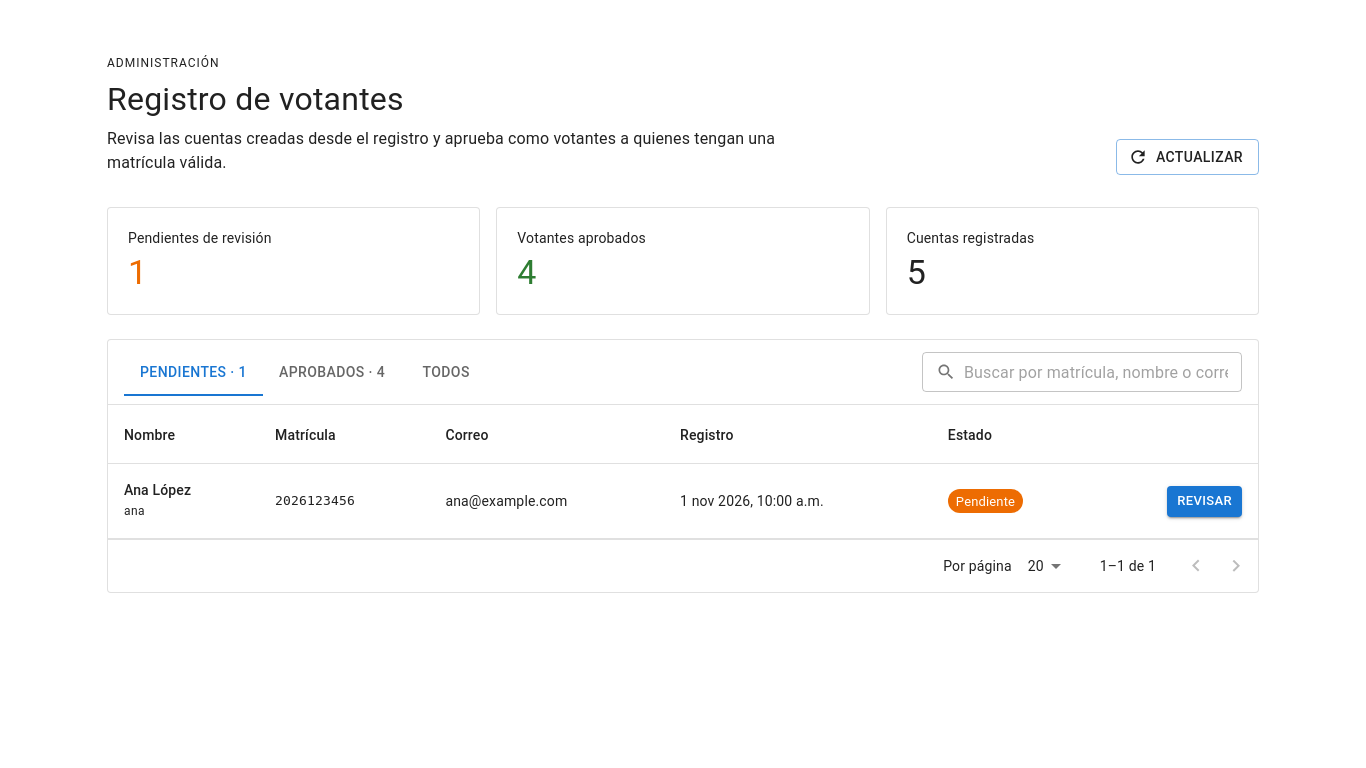
Test: AdminVotersPage › lista las solicitudes pendientes con sus indicadores y permite revisarlas
This screenshot has width=1366, height=768.
Check: the text "2026123456" is shown, box [275, 492, 355, 511]
Check: the text "Pendiente" is shown, box [956, 494, 1015, 509]
Click the button "Revisar". click: (1205, 501)
box: [1167, 486, 1242, 517]
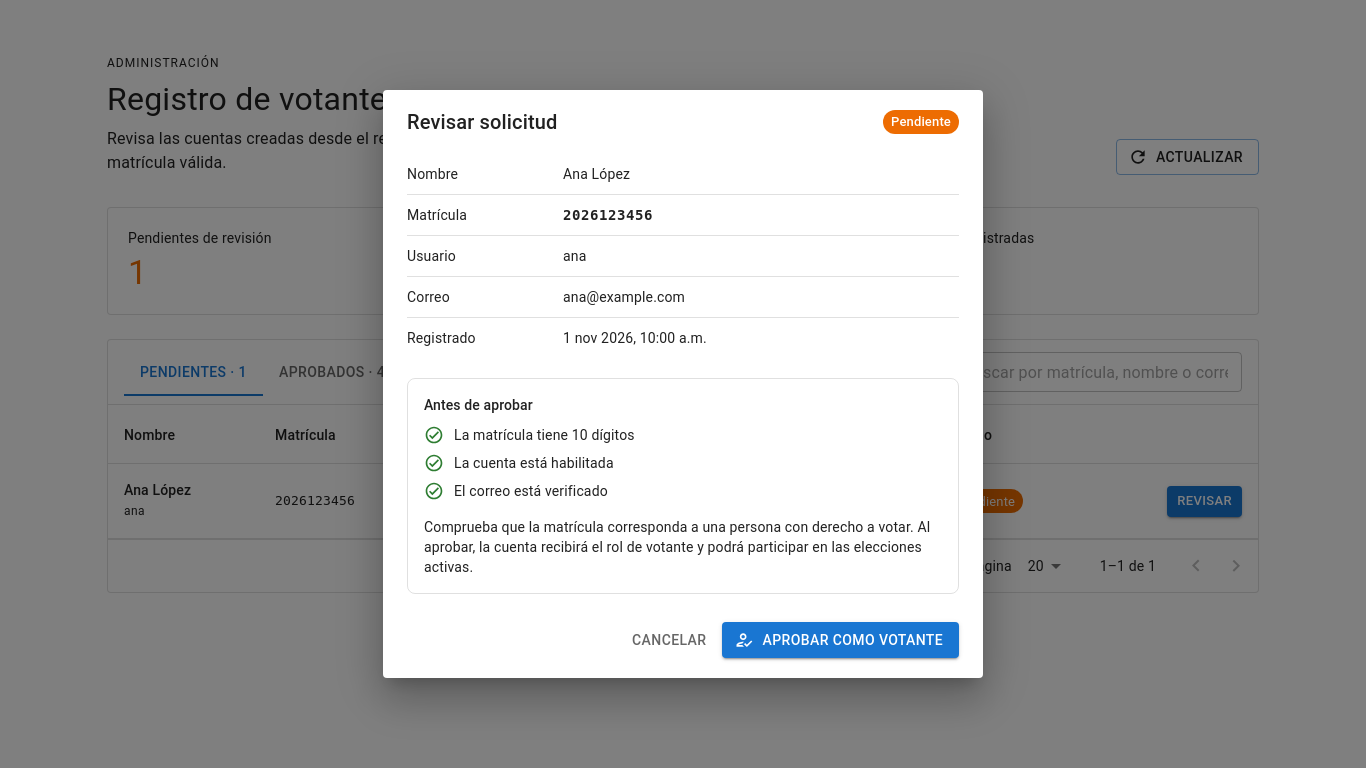
Check: the dialog shows "Revisar solicitud", box [407, 110, 558, 134]
